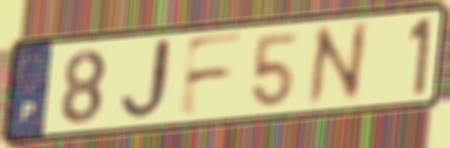1: (406, 16, 433, 98)
5: (251, 28, 302, 108)
8: (60, 48, 108, 126)
F: (175, 30, 248, 121)
J: (118, 35, 181, 126)
N: (305, 18, 370, 111)
